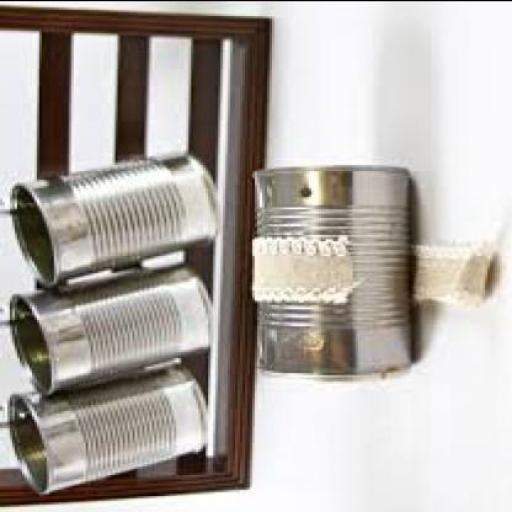metal: (249, 164, 417, 374), (10, 149, 215, 284), (8, 359, 206, 493), (10, 261, 210, 391)
